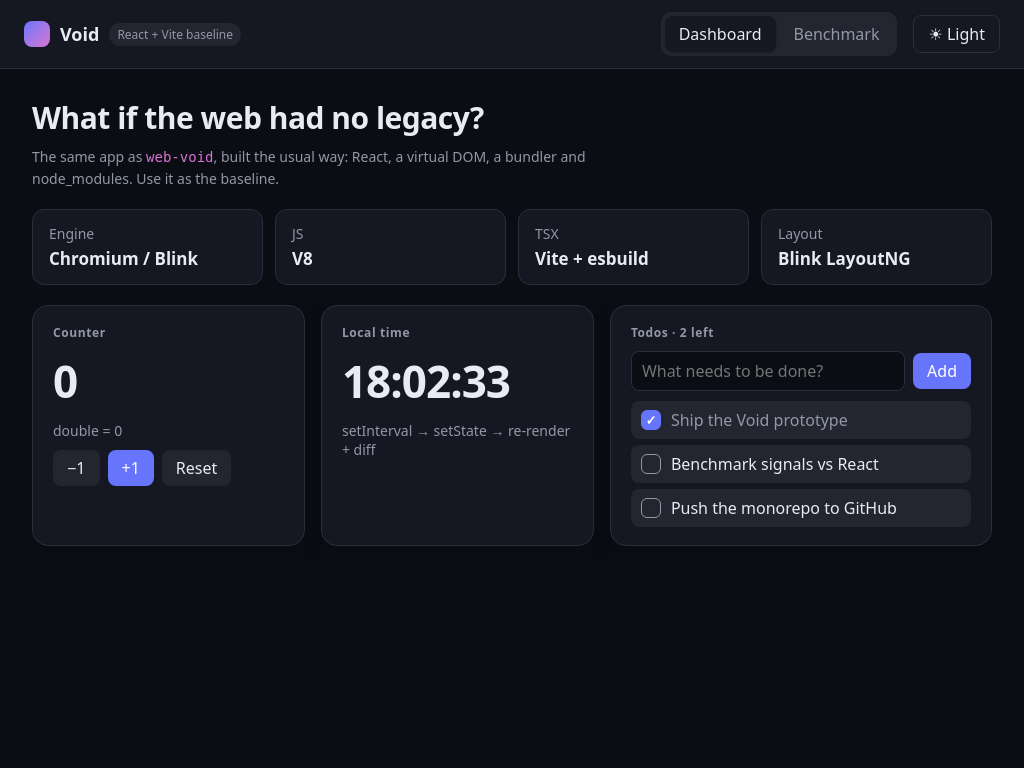
Test case: web-react baseline › switches theme
Click the button "☀ Light".
click(957, 34)  # box x1=914 y1=15 x2=1000 y2=53
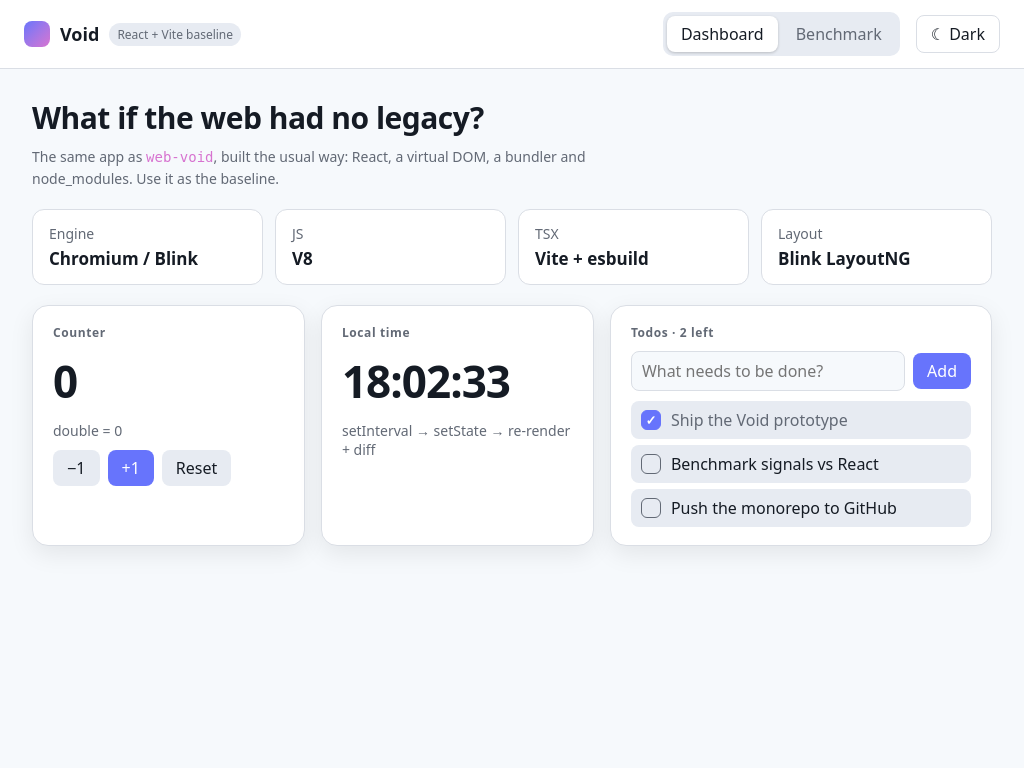
Check: the button "☾ Dark" is shown, box x1=916 y1=15 x2=1000 y2=53
